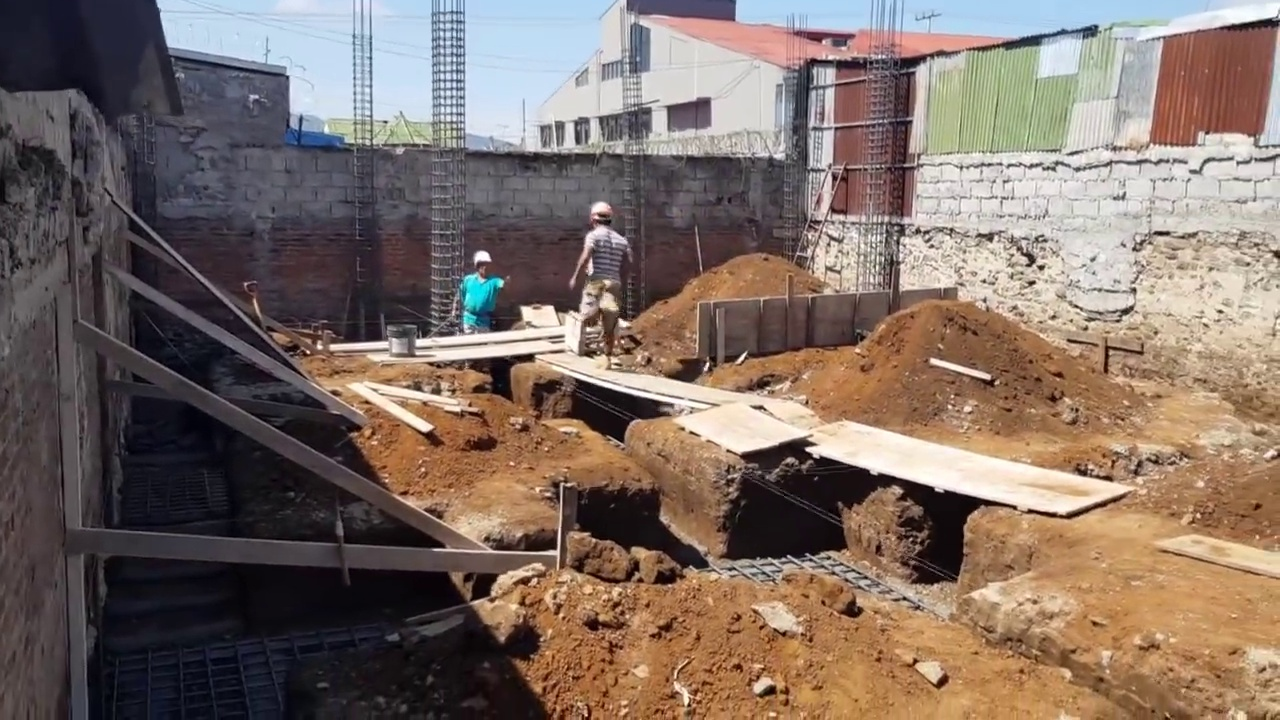helmet: (585, 200, 615, 219), (473, 251, 492, 265)
helmet-on: (585, 200, 613, 229), (471, 251, 493, 280)
person: (570, 201, 635, 373), (449, 250, 504, 338)
